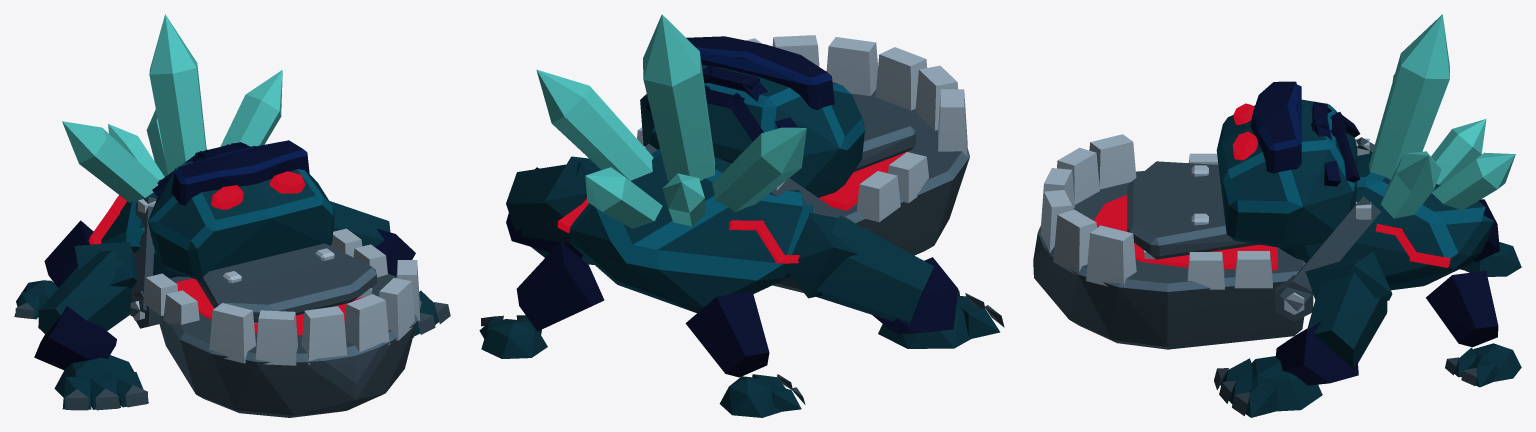
The model's file is OreEater.glb.
The picture shows the model from 3 angles, left to right: view 1: azimuth 30°, elevation 25°; view 2: azimuth 150°, elevation 25°; view 3: azimuth 270°, elevation 25°; orthographic projection. The views are drawn at different scales.
Visible parts, largest first — view 1: Jaw, Head, Leg_R1, JawPlate, Crystal_1, Crystal_3, Body, Leg_L1, Crystal_2, Leg_R2, Eye, Crystal_5 (+1 smaller); view 2: Body, Jaw, Head, Leg_R1, Crystal_1, Leg_R2, Leg_L2, Crystal_2, Leg_L1, Crystal_3, Crystal_4, JawPlate (+1 smaller); view 3: Jaw, Head, Leg_L1, Body, JawPlate, Crystal_1, Leg_L2, Crystal_4, Crystal_2, Crystal_5, Leg_R2, Eye.
Boxes of the visible parts, left/top/right/bottom form: Jaw: left=130, top=228, right=421, bottom=417; Head: left=148, top=140, right=334, bottom=280; Leg_R1: left=34, top=241, right=148, bottom=410; JawPlate: left=197, top=243, right=376, bottom=323; Crystal_1: left=149, top=14, right=206, bottom=174; Crystal_3: left=62, top=121, right=159, bottom=202; Body: left=88, top=180, right=187, bottom=316; Leg_L1: left=329, top=201, right=450, bottom=337; Crystal_2: left=220, top=70, right=282, bottom=146; Leg_R2: left=14, top=220, right=93, bottom=319; Eye: left=211, top=171, right=305, bottom=209; Crystal_5: left=108, top=124, right=164, bottom=180; Body: left=557, top=143, right=855, bottom=312; Jaw: left=637, top=35, right=969, bottom=292; Head: left=640, top=36, right=864, bottom=197; Leg_R1: left=784, top=212, right=1004, bottom=348; Crystal_1: left=643, top=14, right=715, bottom=181; Leg_R2: left=685, top=291, right=805, bottom=417; Leg_L2: left=479, top=241, right=604, bottom=358; Crystal_2: left=536, top=69, right=653, bottom=180; Leg_L1: left=506, top=156, right=601, bottom=264; Crystal_3: left=712, top=127, right=806, bottom=211; Crystal_4: left=585, top=167, right=662, bottom=228; JawPlate: left=853, top=102, right=915, bottom=172; Jaw: left=1033, top=134, right=1313, bottom=349; Head: left=1216, top=81, right=1360, bottom=248; Leg_L1: left=1214, top=251, right=1392, bottom=417; Body: left=1279, top=137, right=1494, bottom=311; JawPlate: left=1127, top=161, right=1258, bottom=259; Crystal_1: left=1369, top=14, right=1449, bottom=179; Leg_L2: left=1426, top=271, right=1521, bottom=387; Crystal_4: left=1432, top=152, right=1515, bottom=210; Crystal_2: left=1380, top=151, right=1441, bottom=218; Crystal_5: left=1431, top=119, right=1486, bottom=184; Leg_R2: left=1460, top=199, right=1521, bottom=276; Eye: left=1232, top=103, right=1257, bottom=160.
Bounding box in the file's own units: 0.9978 × 0.7006 × 1.02.
